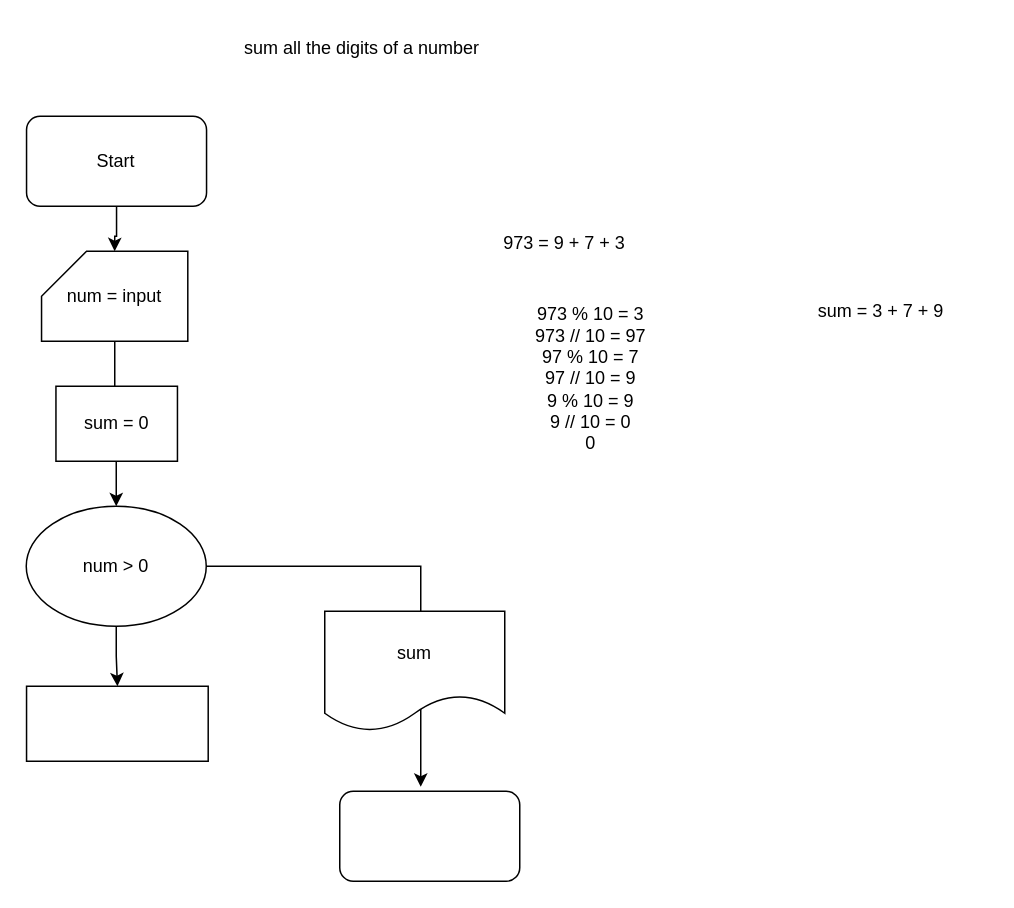
Some shapes in this 1014 by 908 pixel diagram are drawn without their labels. Here are the shapes that lost their labels. From the top down, the centre of each, then its label:
(116,723): rightd = sum % 10 num = num // 10 sum += rightd
(429,835): End
